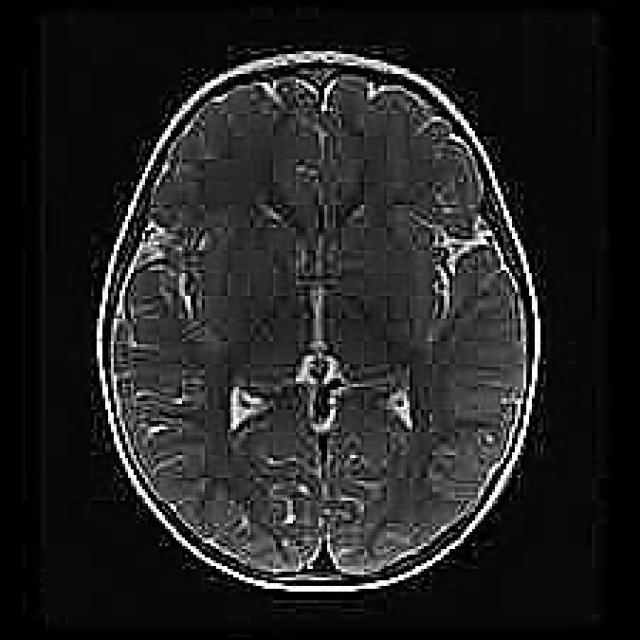notumor: (97, 51, 540, 592)
